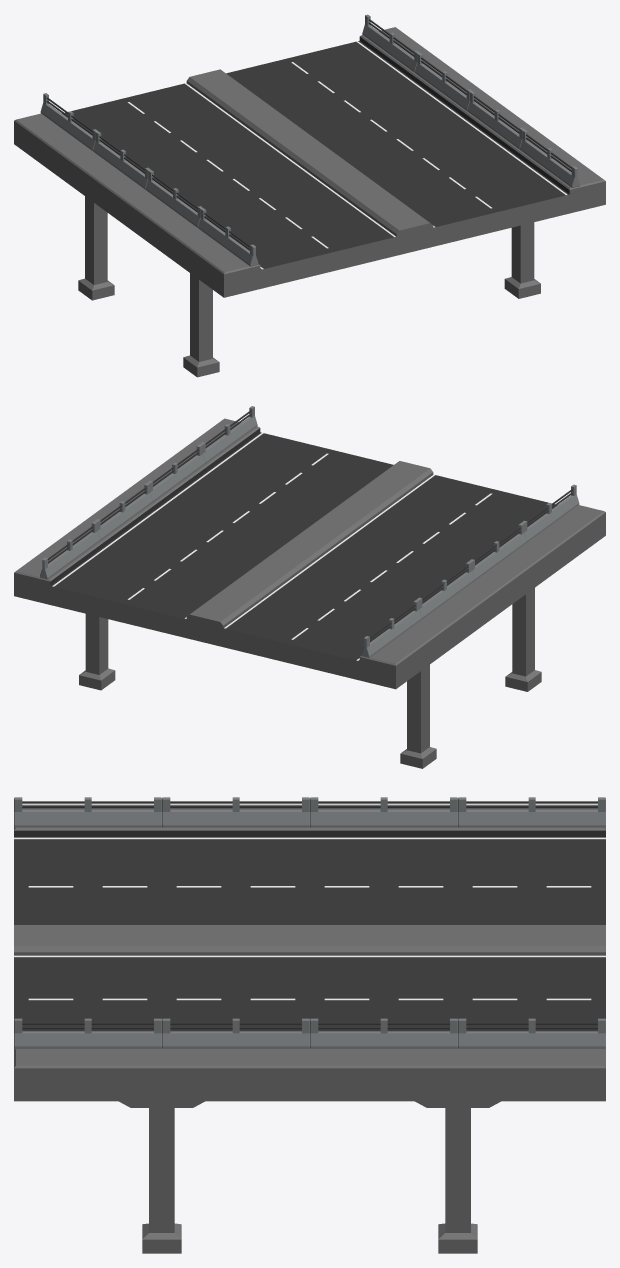
The picture shows the model from 3 angles, top to bottom: view 1: azimuth 30°, elevation 25°; view 2: azimuth 150°, elevation 25°; view 3: azimuth 270°, elevation 25°; orthographic projection. The views are drawn at different scales.
Visible parts, largest first — view 1: road_c_04.002; view 2: road_c_04.002; view 3: road_c_04.002.
Part boxes in pixels (x1,y1,x2,y2): road_c_04.002: [14, 14, 605, 377]; road_c_04.002: [14, 406, 605, 768]; road_c_04.002: [14, 797, 605, 1253].
Bounding box in the file's own units: 21 × 8.46 × 20.
1 material, 1 textured.
